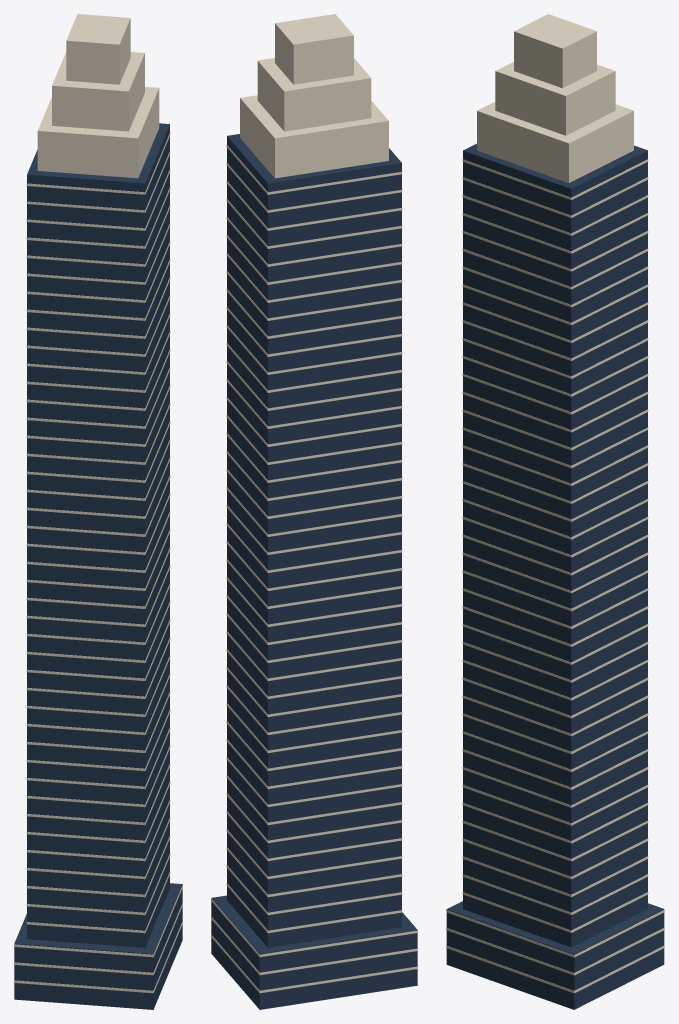
File: churchill-tower.glb
3 views of the same model, side by side, from view 1: azimuth 30°, elevation 25°; view 2: azimuth 150°, elevation 25°; view 3: azimuth 270°, elevation 25° (orthographic).
Visible parts, largest first — view 1: M_churchill-tower, artdeco_step_0, artdeco_step_1, artdeco_step_2, band.902, band.903, band.904, band.938, band.940, band.941, band.937, band.939 (+37 smaller); view 2: M_churchill-tower, artdeco_step_0, artdeco_step_1, artdeco_step_2, band.904, band.903, band.902, band.907, band.905, band.906, band.908, band.915 (+37 smaller); view 3: M_churchill-tower, artdeco_step_0, artdeco_step_1, artdeco_step_2, band.903, band.902, band.904, band.908, band.939, band.916, band.943, band.912 (+37 smaller).
Part boxes in pixels (x1=…): M_churchill-tower: x1=14, y1=123, x2=182, y2=1009; artdeco_step_0: x1=37, y1=87, x2=159, y2=178; artdeco_step_1: x1=52, y1=52, x2=144, y2=131; artdeco_step_2: x1=66, y1=14, x2=130, y2=84; band.902: x1=14, y1=921, x2=182, y2=993; band.903: x1=14, y1=903, x2=182, y2=975; band.904: x1=14, y1=885, x2=182, y2=957; band.938: x1=26, y1=277, x2=170, y2=338; band.940: x1=26, y1=241, x2=170, y2=302; band.941: x1=26, y1=223, x2=170, y2=284; band.937: x1=26, y1=295, x2=170, y2=356; band.939: x1=26, y1=259, x2=170, y2=320; M_churchill-tower: x1=211, y1=134, x2=417, y2=1009; artdeco_step_0: x1=240, y1=95, x2=388, y2=178; artdeco_step_1: x1=257, y1=58, x2=371, y2=131; artdeco_step_2: x1=275, y1=14, x2=353, y2=84; band.904: x1=211, y1=898, x2=417, y2=957; band.903: x1=211, y1=916, x2=417, y2=975; band.902: x1=211, y1=934, x2=417, y2=993; band.907: x1=226, y1=847, x2=402, y2=897; band.905: x1=226, y1=883, x2=402, y2=933; band.906: x1=226, y1=865, x2=402, y2=915; band.908: x1=226, y1=829, x2=402, y2=879; band.915: x1=226, y1=703, x2=402, y2=752; M_churchill-tower: x1=446, y1=143, x2=664, y2=1009; artdeco_step_0: x1=477, y1=102, x2=633, y2=182; artdeco_step_1: x1=495, y1=62, x2=615, y2=135; artdeco_step_2: x1=514, y1=14, x2=596, y2=88; band.903: x1=446, y1=927, x2=664, y2=975; band.902: x1=446, y1=945, x2=664, y2=993; band.904: x1=446, y1=910, x2=664, y2=957; band.908: x1=462, y1=838, x2=648, y2=879; band.939: x1=462, y1=284, x2=648, y2=325; band.916: x1=462, y1=695, x2=648, y2=736; band.943: x1=462, y1=213, x2=648, y2=253; band.912: x1=462, y1=767, x2=648, y2=807.
Size of the model in its own units: 49.14 by 235 by 49.88.
